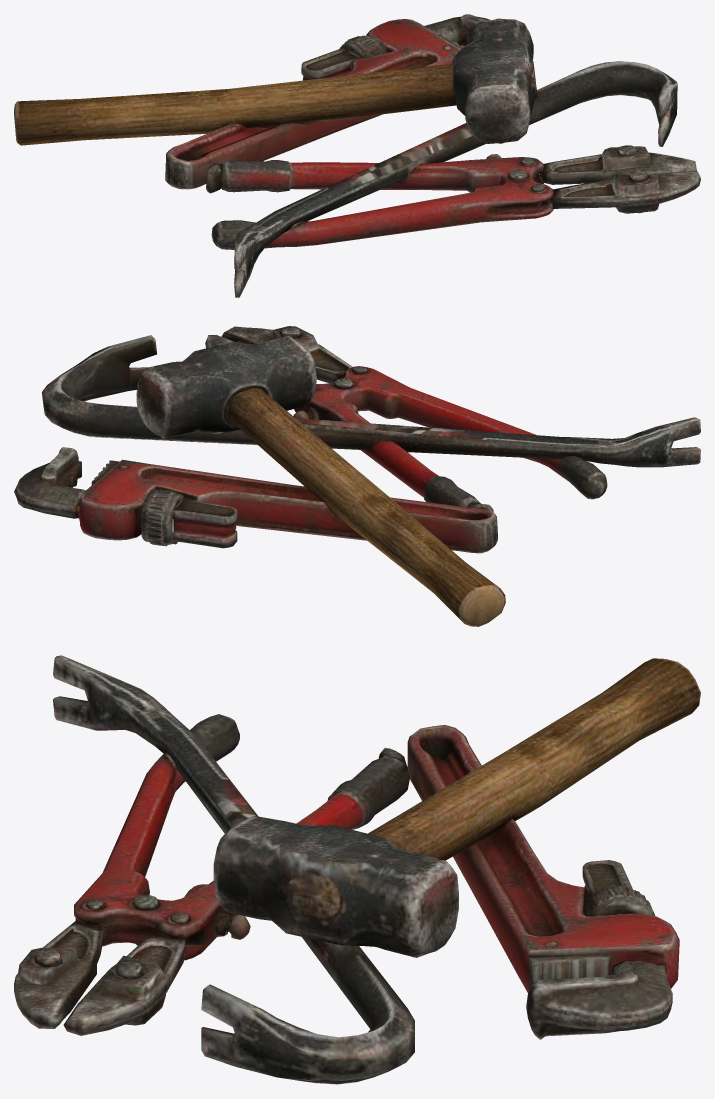
File: tools.glb
3 views of the same model, one above another, from view 1: azimuth 30°, elevation 25°; view 2: azimuth 150°, elevation 25°; view 3: azimuth 270°, elevation 25° (orthographic). The views are drawn at different scales.
Parts seen in each view (by area): view 1: tripo_node_d0eb8d34-a6d4-4a28-b13c-e34e8b14a6d6; view 2: tripo_node_d0eb8d34-a6d4-4a28-b13c-e34e8b14a6d6; view 3: tripo_node_d0eb8d34-a6d4-4a28-b13c-e34e8b14a6d6.
Part boxes in pixels (x1,y1,x2,y2): tripo_node_d0eb8d34-a6d4-4a28-b13c-e34e8b14a6d6: [14, 14, 700, 297]; tripo_node_d0eb8d34-a6d4-4a28-b13c-e34e8b14a6d6: [14, 326, 700, 626]; tripo_node_d0eb8d34-a6d4-4a28-b13c-e34e8b14a6d6: [14, 655, 700, 1084].
Size of the model in its own units: 0.998 by 0.1738 by 0.7598.
1 material, 1 textured.
